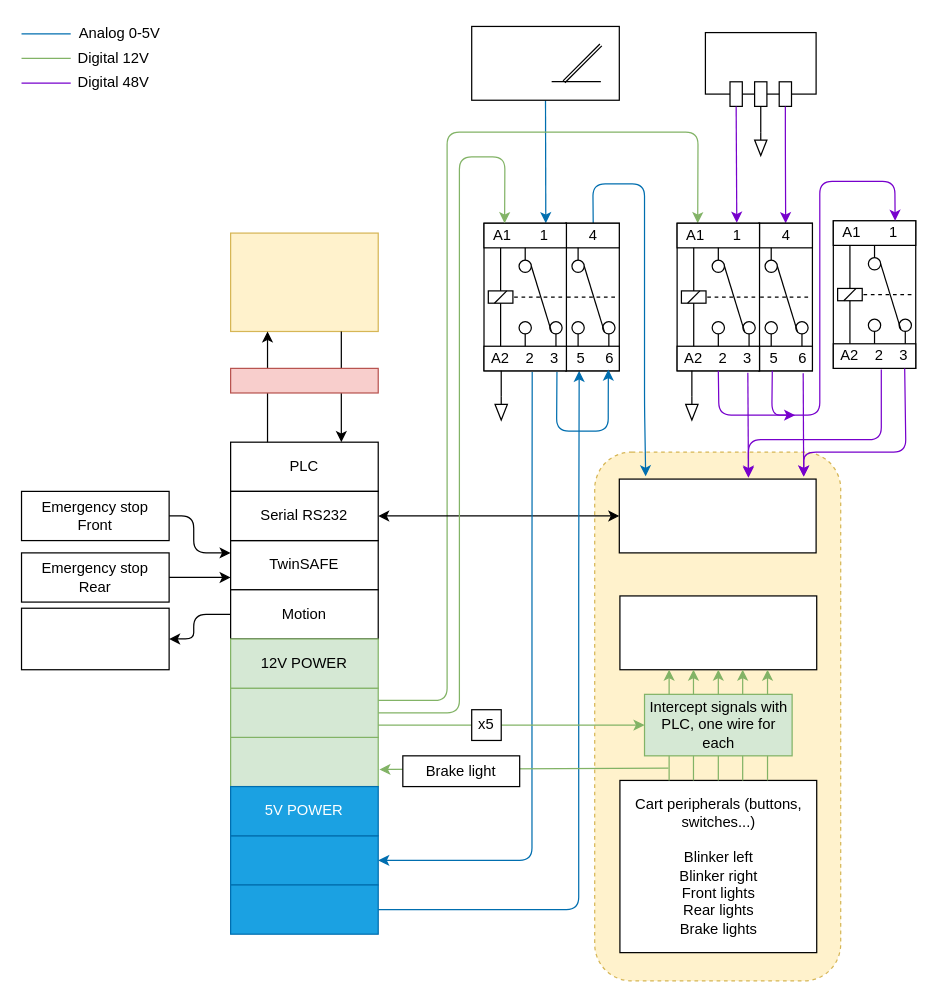
Image size: 937x1002. Some labels were removed from this diagram. The centre of each missing label's shape, as x and y in pixels:
"ANALOG IN" goes at [303,860].
"ANALOG OUT" goes at [303,909].
"Cart wiring loom" goes at [718,632].
"DC Motor Controller" goes at [717,515].
"DIGITAL IN" goes at [303,761].
"DIGITAL OUT" goes at [303,712].
"Ethernet" goes at [303,380].
"FNR 3-state switch" goes at [760,62].
"Jetson Nano" goes at [303,281].
"Pedal 0-5V 5,6kOhm" goes at [544,62].
"Stepper (chain drive steering wheel)" goes at [94,638].
